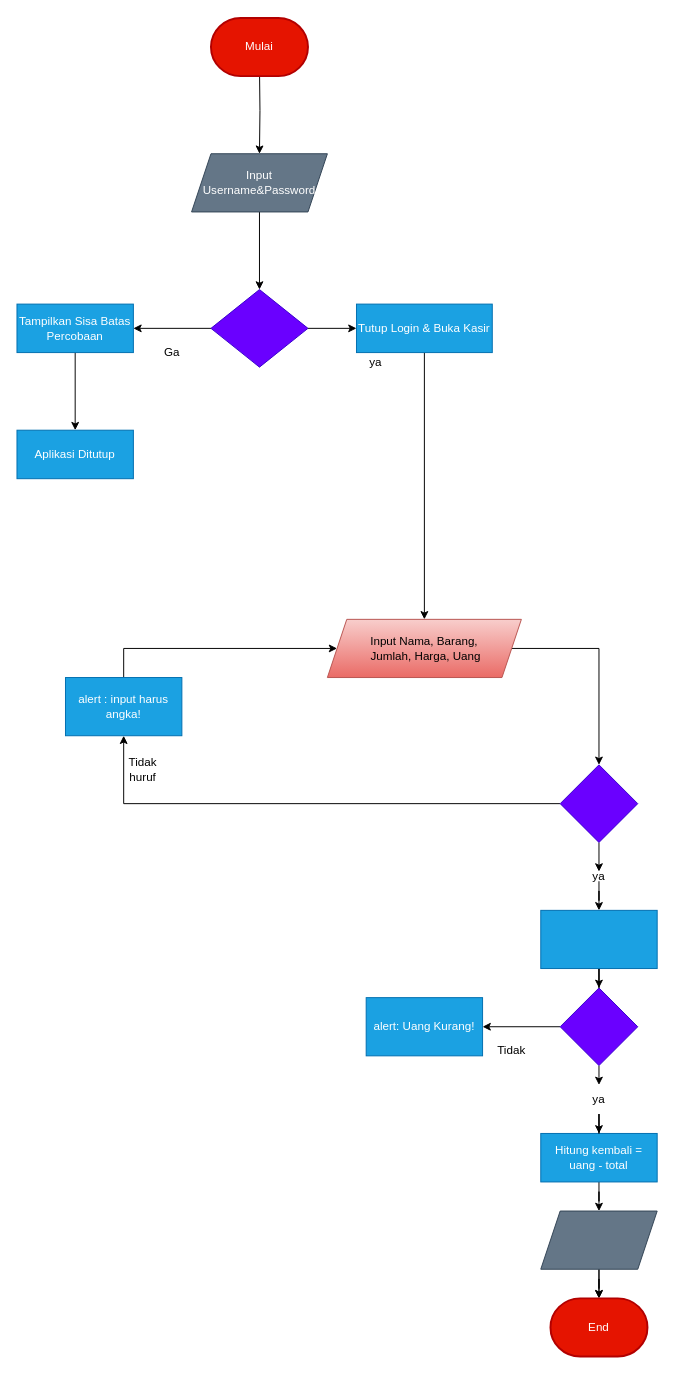
Some shapes in this 674 by 1374 pixel diagram are drawn without their labels. The centre of each missing label's shape, as x and y in pixels:
"Hitung total = jumlah x harga" belongs at point 598,939.
"Input angka valid" belongs at point 598,803.
"Login Valid?" belongs at point 259,328.
"Tampilkan Popup Struk" belongs at point 598,1239.
"uang pas?" belongs at point 598,1026.
